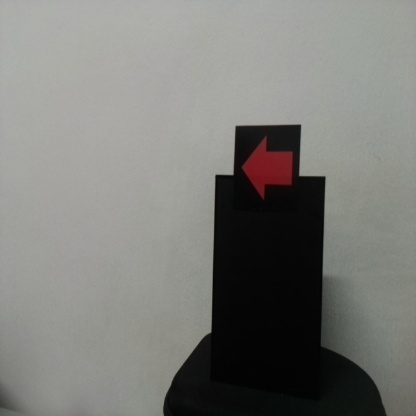id_4: (235, 127, 300, 214)
